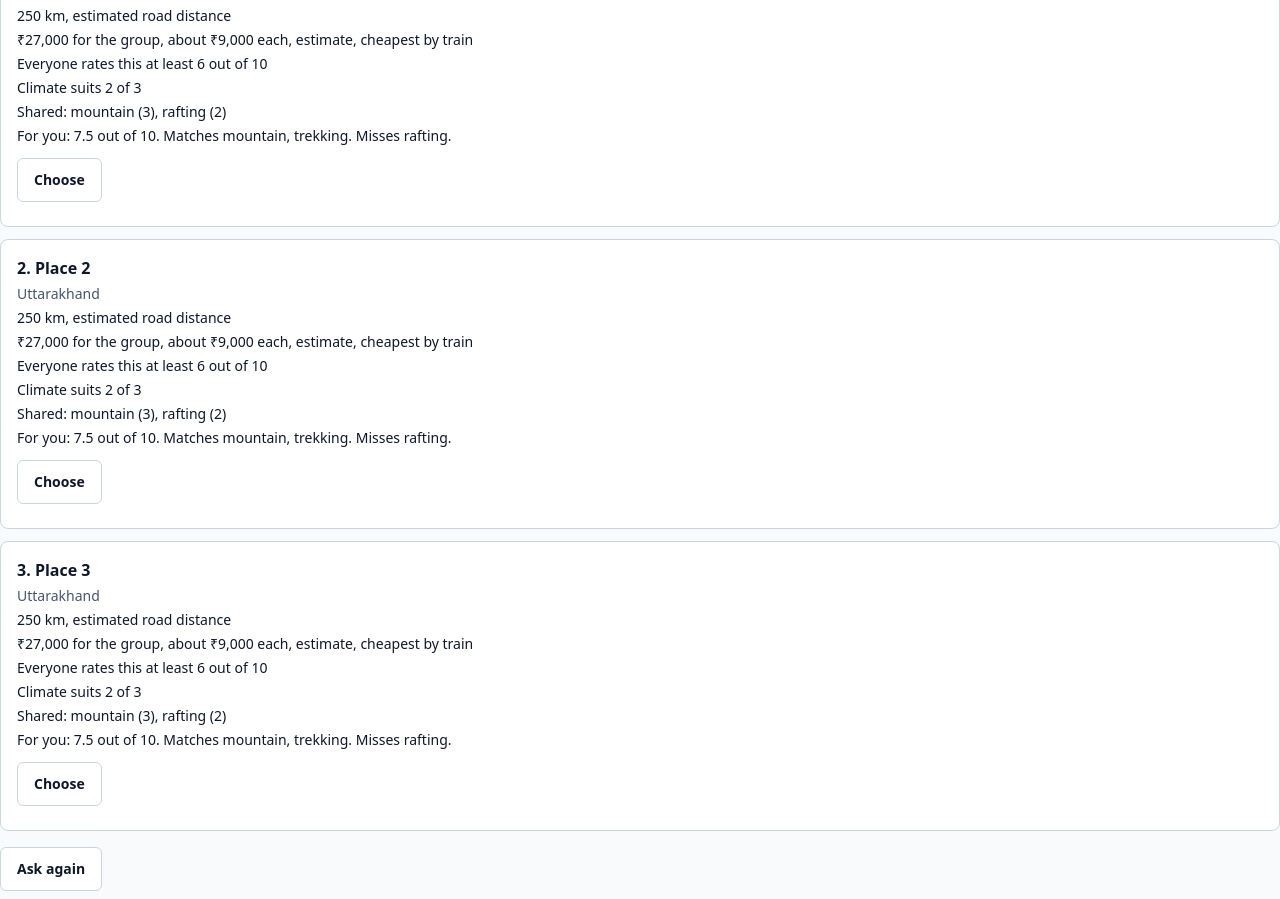
Test: ask again (T21) › a refused ask shows the server message
This screenshot has width=1280, height=899.
(page scrolled)
What coordinates should you click on to do the following:
click the button "Ask again"
I would click on:
 (51, 869)
Its box is [0, 847, 102, 891].
(page scrolled)
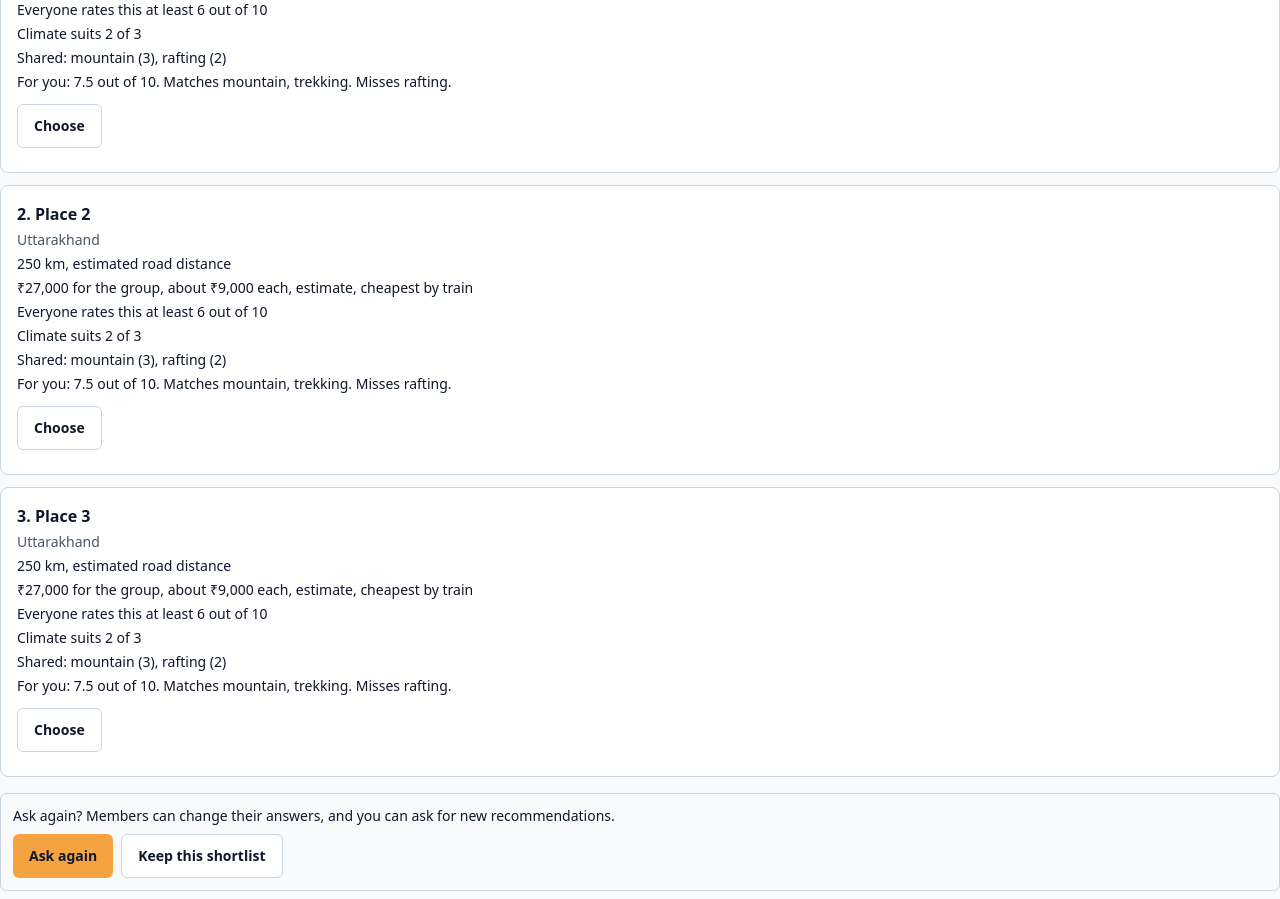
What coordinates should you click on to do the following:
click the button "Ask again"
I would click on:
 (63, 856)
Its box is [13, 834, 113, 878].
(page scrolled)
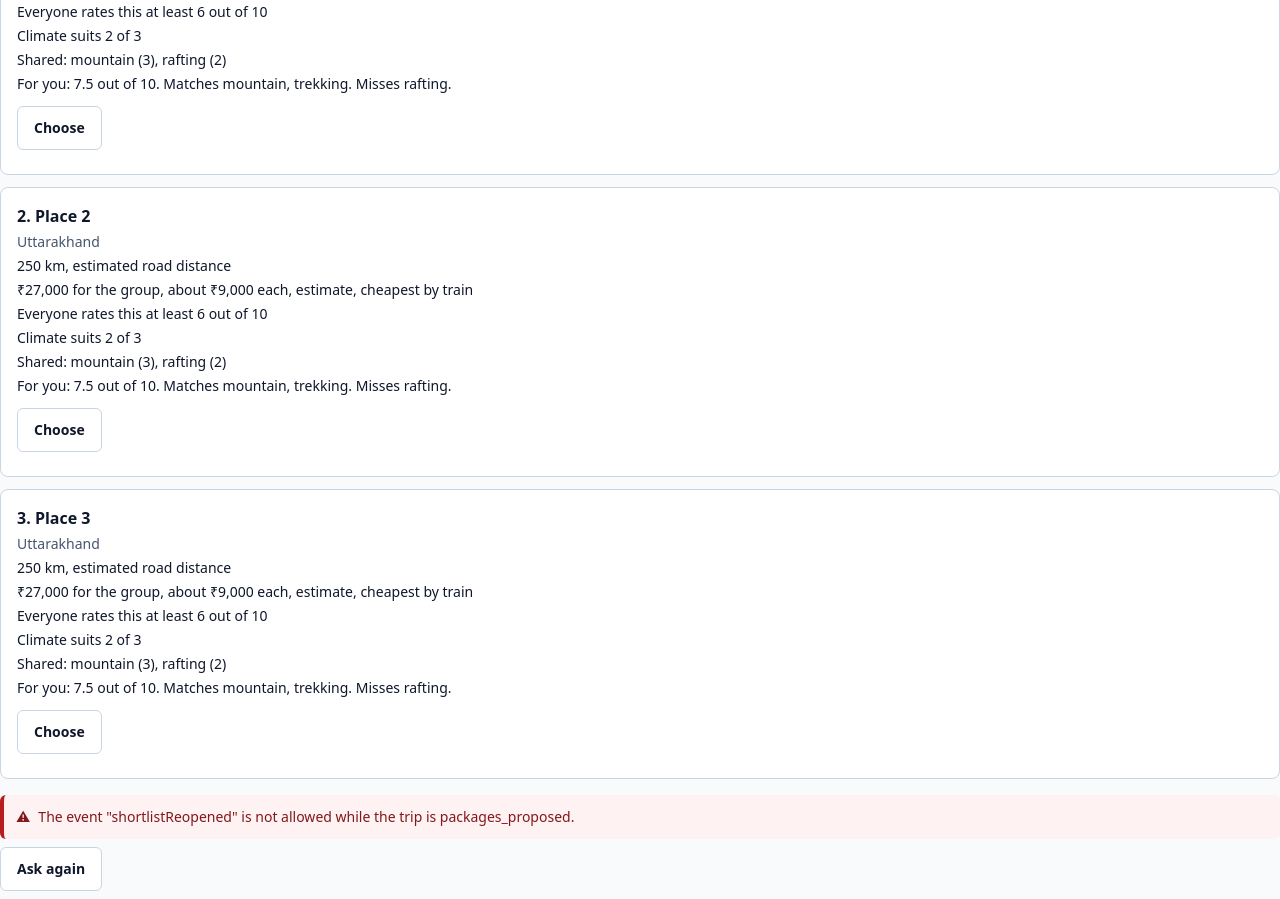
Result: the text "The event \"shortlistReopened\" is not allowed while the trip is packages_proposed." is shown at [38, 807, 574, 826]
